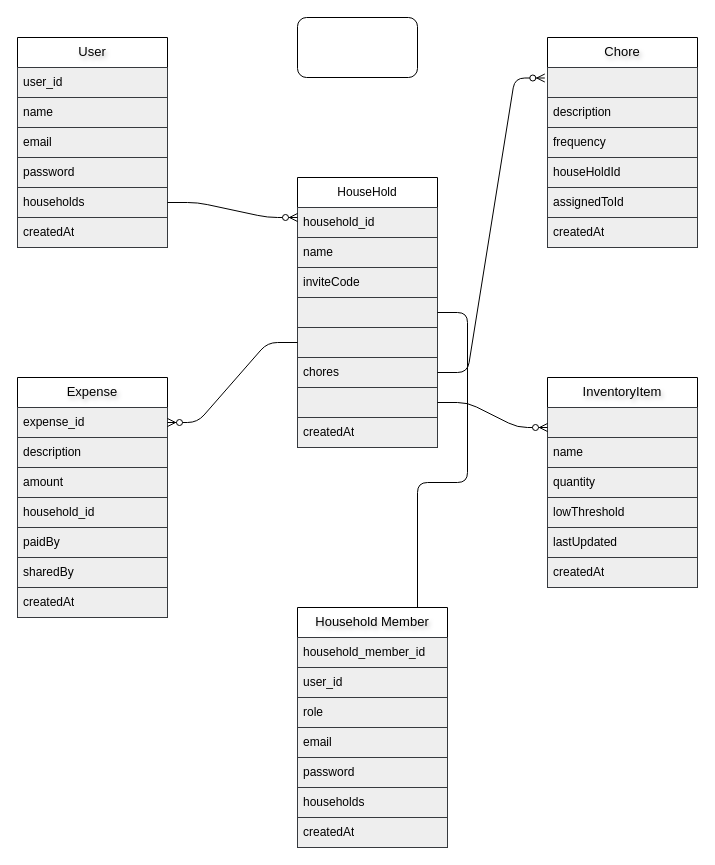
The diagram is 715 pixels wide and 865 high, and some of its shapes have lost their labels. The box of each missing label's shape, as (x1, y1, x2, y2) in pixels:
chore_id: (546, 66, 698, 98)
expenses: (296, 326, 438, 358)
inventory: (296, 386, 438, 418)
inventory_item_id: (546, 406, 698, 438)
members: (296, 296, 438, 328)
MVP VERSION: (296, 16, 418, 78)
